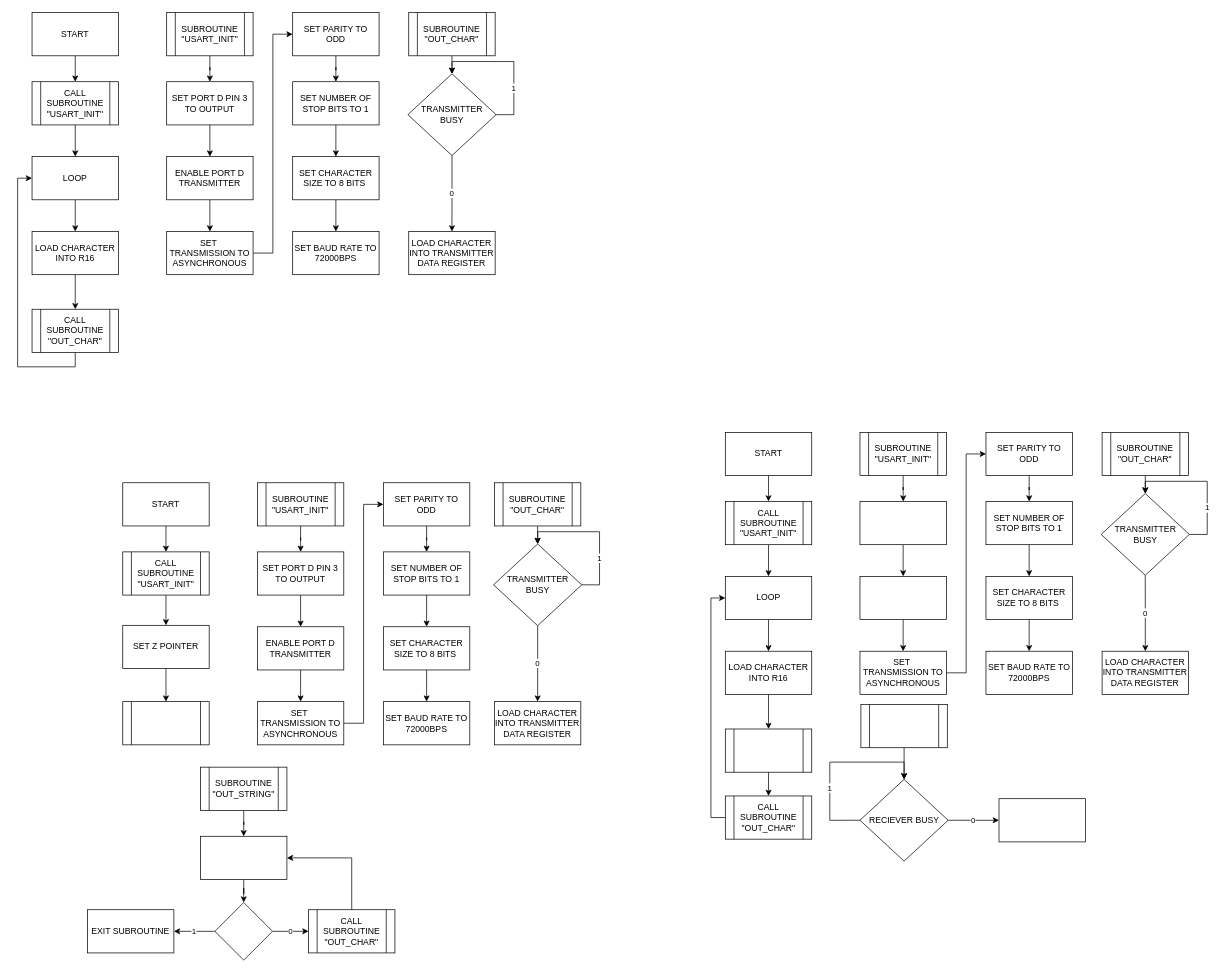
Some shapes in this 1226 by 973 pixel diagram are drawn without their labels. The shapes that lost their labels are listed below. From the top down, each one's box as (x1, y1, x2, y2) in pixels, then its label:
(859, 501, 946, 545): SET PORT D PIN 3 TO OUTPUT AND PIN 2 AS INPUT
(859, 576, 946, 620): ENABLE PORT D TRANSMITTER AND RECIEVER
(122, 701, 209, 745): CALL SUBROUTINE "OUT_STRING"
(860, 704, 947, 748): SUBROUTINE "IN_CHAR"
(725, 728, 812, 772): CALL SUBROUTINE "IN_CHAR"
(998, 798, 1085, 842): LOAD CHARACTER INTO RECIEVER DATA REGISTER
(200, 836, 287, 879): READ CHARACTER POINTED TO BY Z
(214, 902, 273, 960): NULL
